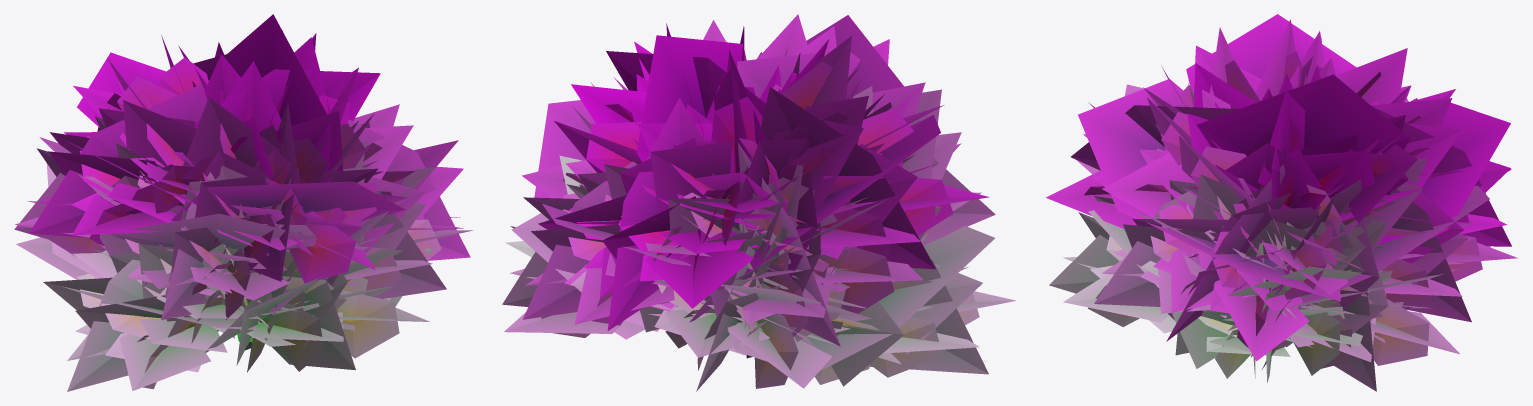
The model's file is filber_tree_1.FBX.
3 views of the same model, side by side, from view 1: azimuth 30°, elevation 25°; view 2: azimuth 150°, elevation 25°; view 3: azimuth 270°, elevation 25° (orthographic). The views are drawn at different scales.
Parts seen in each view (by area): view 1: filbert_leaves_lod_0, filbert_leaves_shadow; view 2: filbert_leaves_lod_0, filbert_leaves_shadow; view 3: filbert_leaves_lod_0, filbert_leaves_shadow.
Part boxes in pixels (x1,y1,x2,y2): filbert_leaves_lod_0: [15, 30, 473, 390]; filbert_leaves_shadow: [14, 14, 470, 391]; filbert_leaves_lod_0: [504, 14, 1015, 388]; filbert_leaves_shadow: [502, 15, 995, 391]; filbert_leaves_lod_0: [1046, 19, 1517, 378]; filbert_leaves_shadow: [1049, 14, 1511, 391].
Size of what is drawn, in the model's own units: 6.23 by 4.42 by 6.28.
